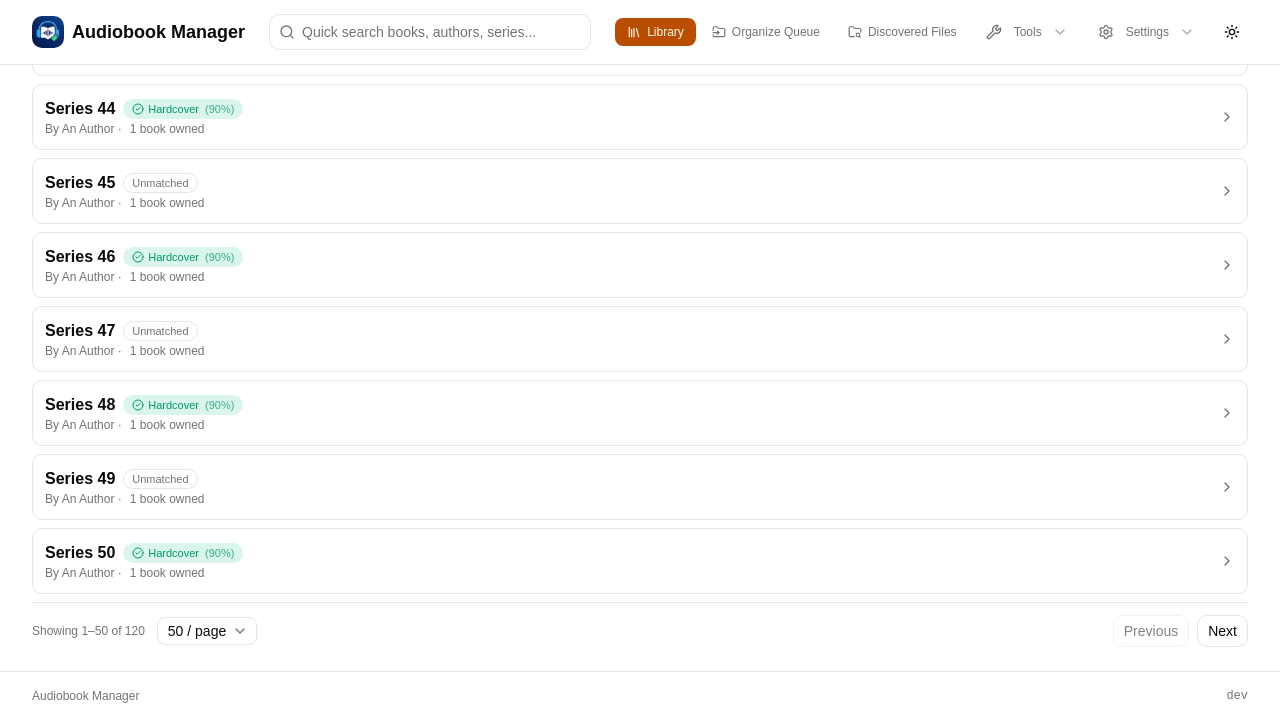
Test: SeriesOverview › pages server-side: Next requests the following page and renders its items
The width and height of the screenshot is (1280, 720).
(page scrolled)
Click the button "Next".
click(1223, 631)  # box [1197,615,1248,647]
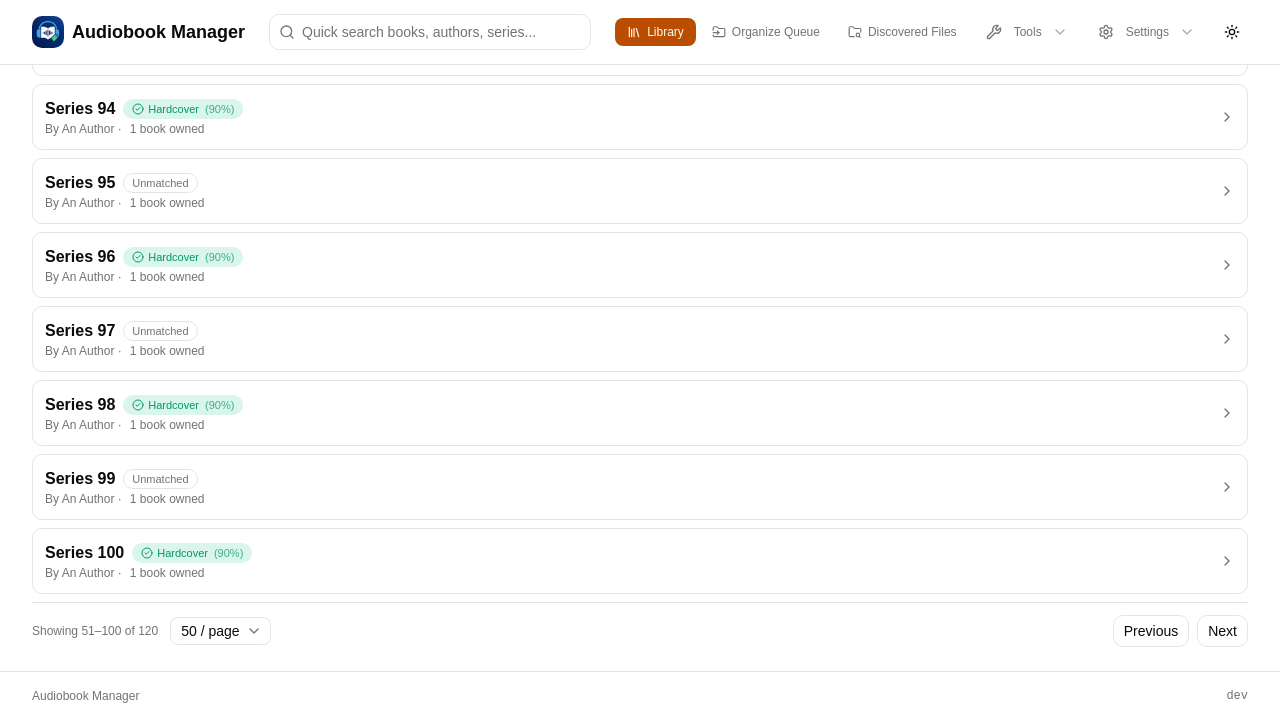
Now the text "Showing 51–100 of 120" is shown, box [32,623,158,639]
Now the button "Previous" is enabled, box [1113,615,1189,647]
